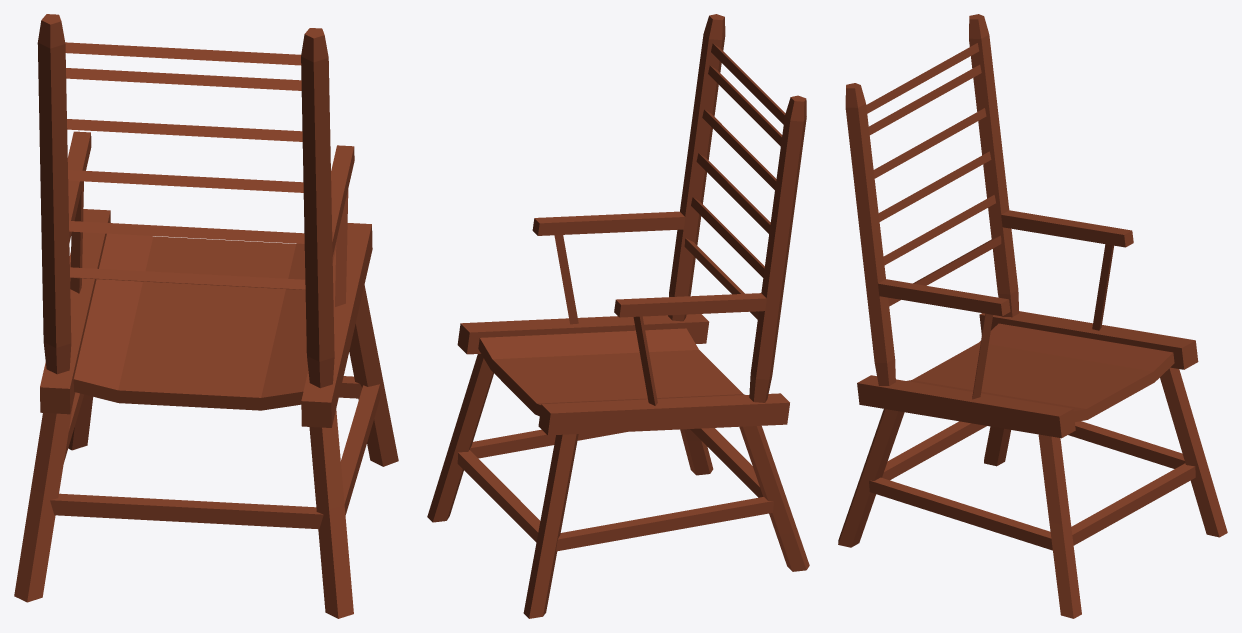
The model's file is chair.obj.
3 renders of one model, left to right at view 1: azimuth 30°, elevation 25°; view 2: azimuth 150°, elevation 25°; view 3: azimuth 270°, elevation 25°, orthographic. The views are drawn at different scales.
Visible parts, largest first — view 1: misc_chair01; view 2: misc_chair01; view 3: misc_chair01.
Part boxes in pixels (x1,y1,x2,y2): misc_chair01: (14,14,398,618); misc_chair01: (427,14,809,618); misc_chair01: (838,14,1227,618).
Size of the model in its own units: 1.65 by 2.13 by 1.67.
